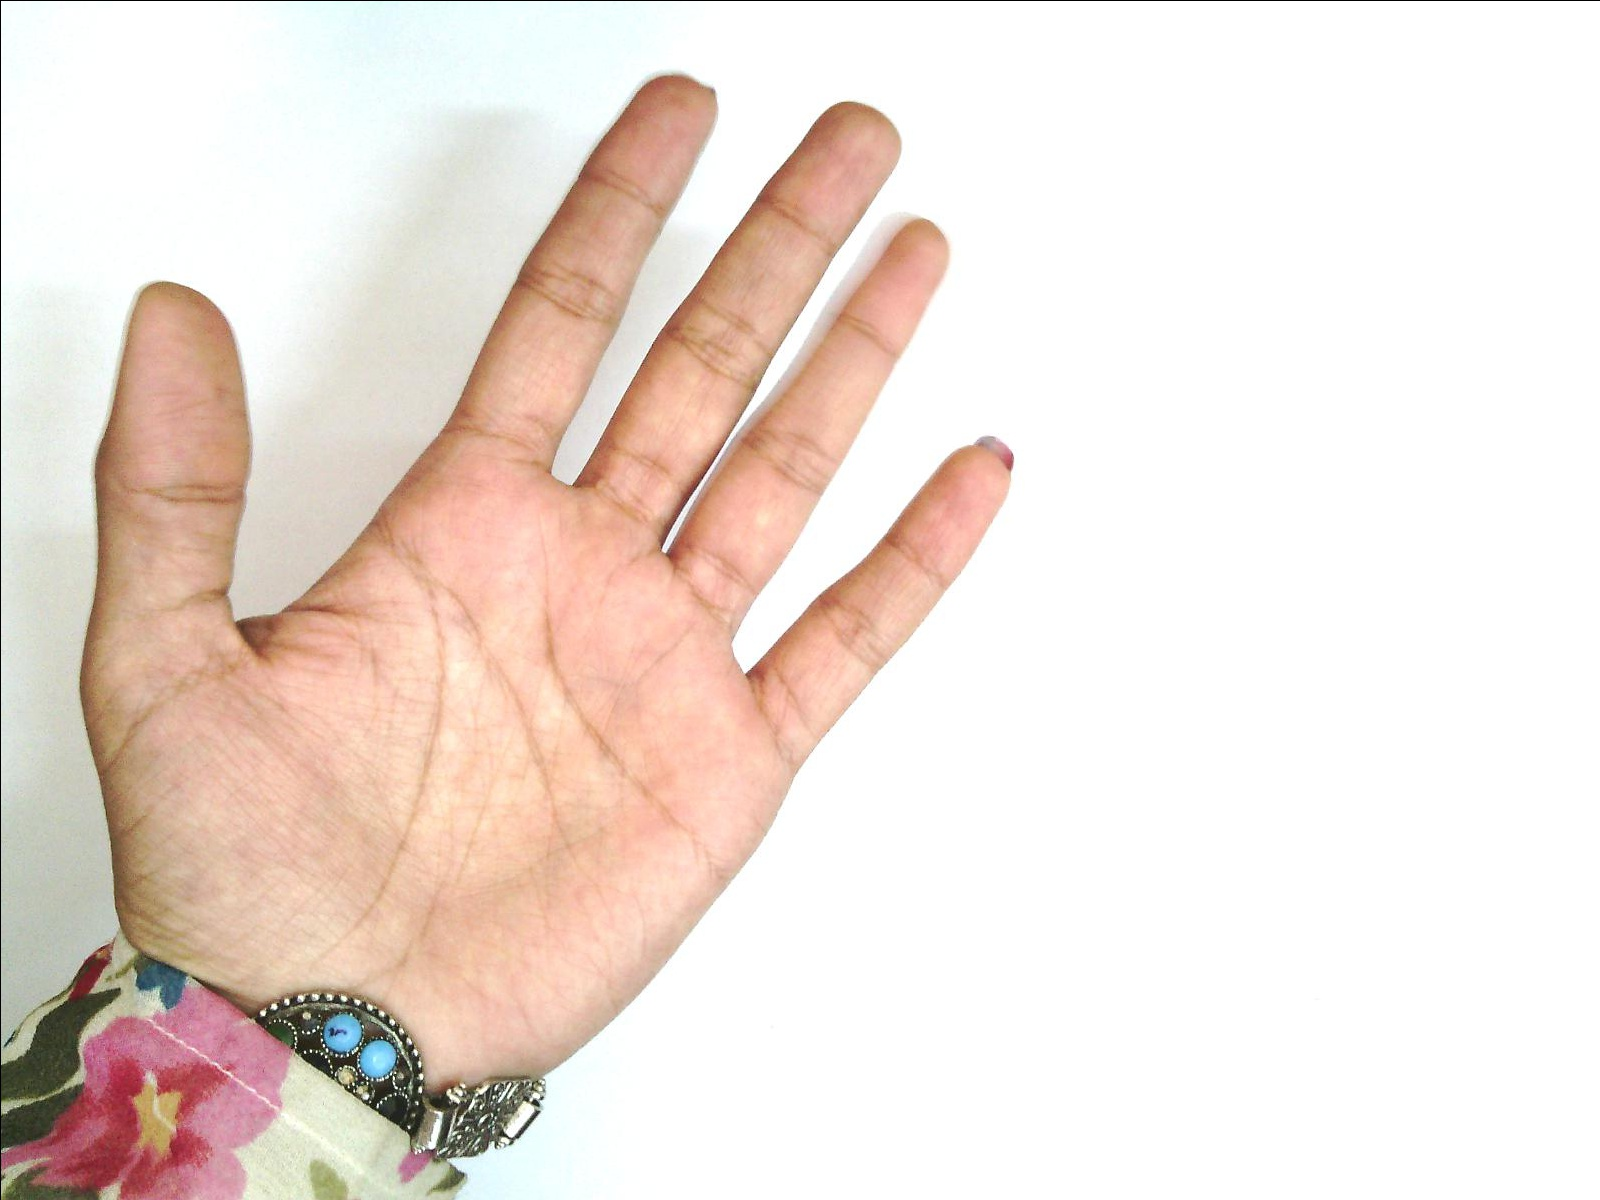5-hand: (81, 72, 1004, 1047)
